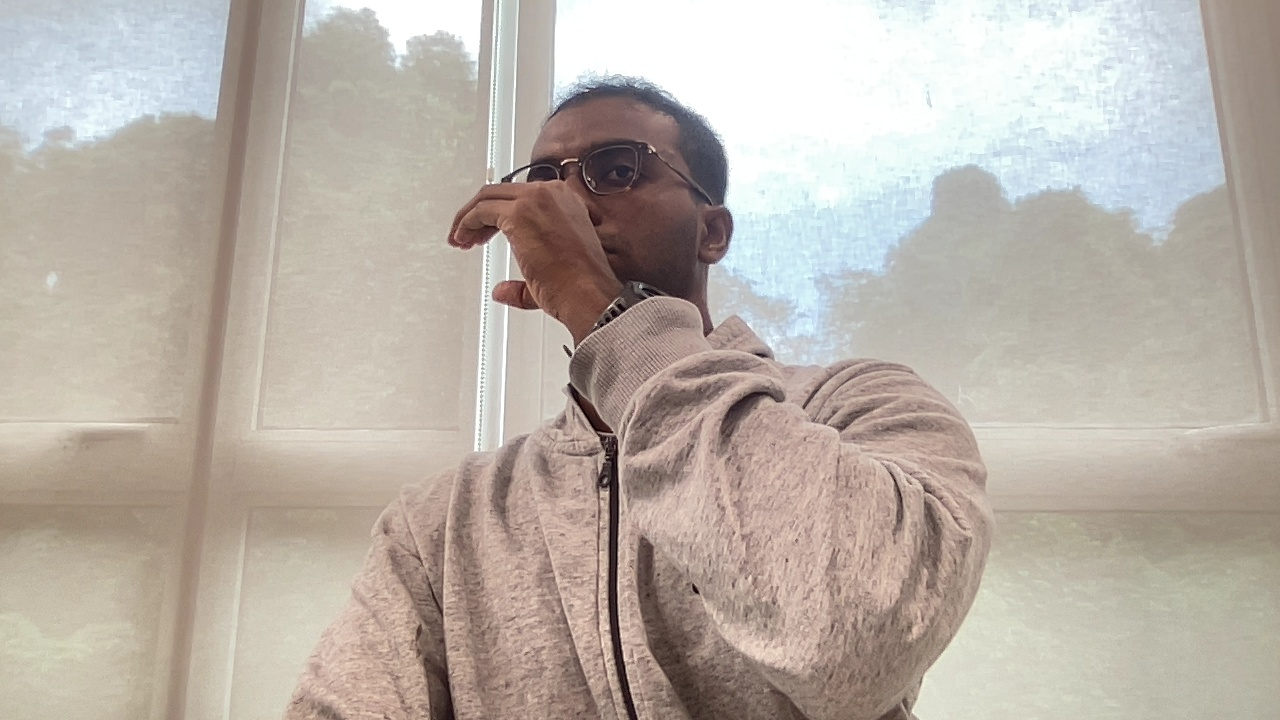drink: (438, 171, 618, 340)
